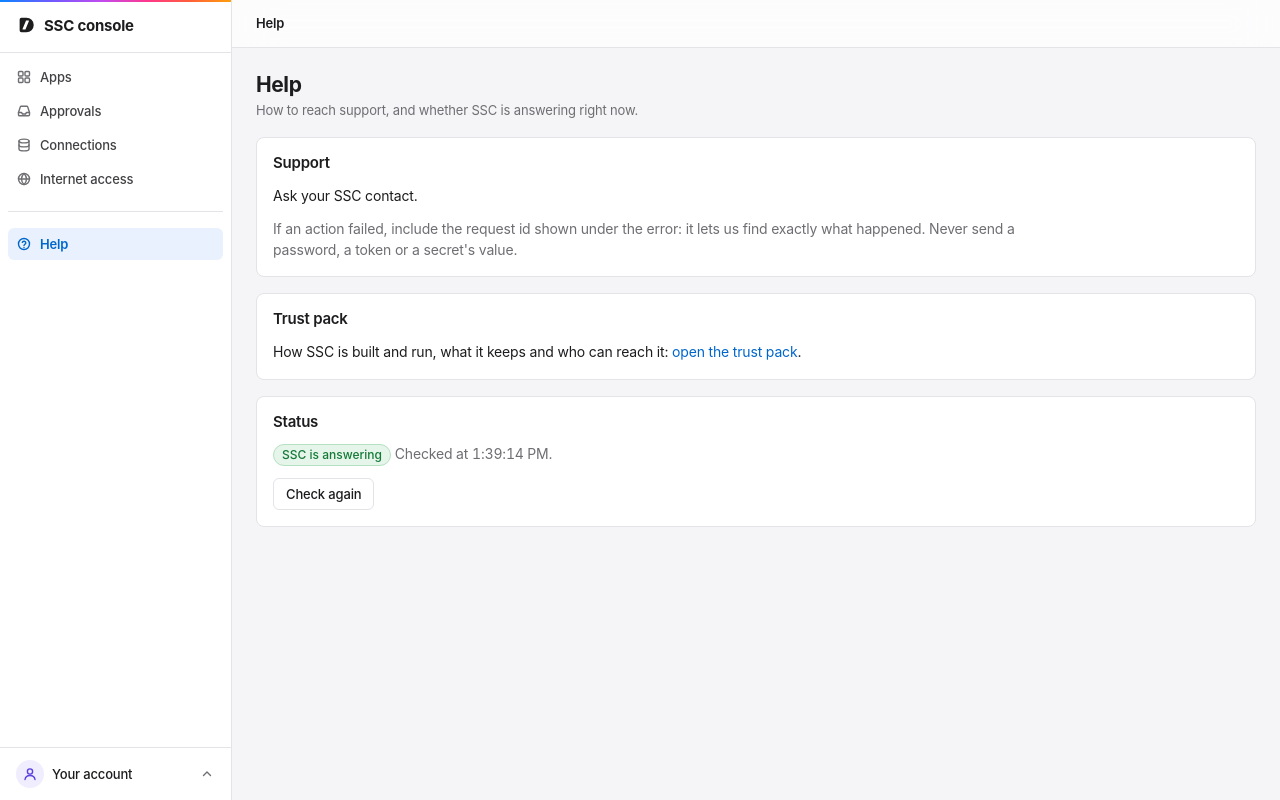
Test case: help: whether SSC is answering › checks again on request, and follows SSC down and back up
The image size is (1280, 800).
expect the heading "Help" is shown: met, box [256,72,302,97]
expect the message named "SSC status" shows "SSC is answering": met, box [282,447,382,462]
Click the button "Check again": (324, 494) [273,478,374,510]
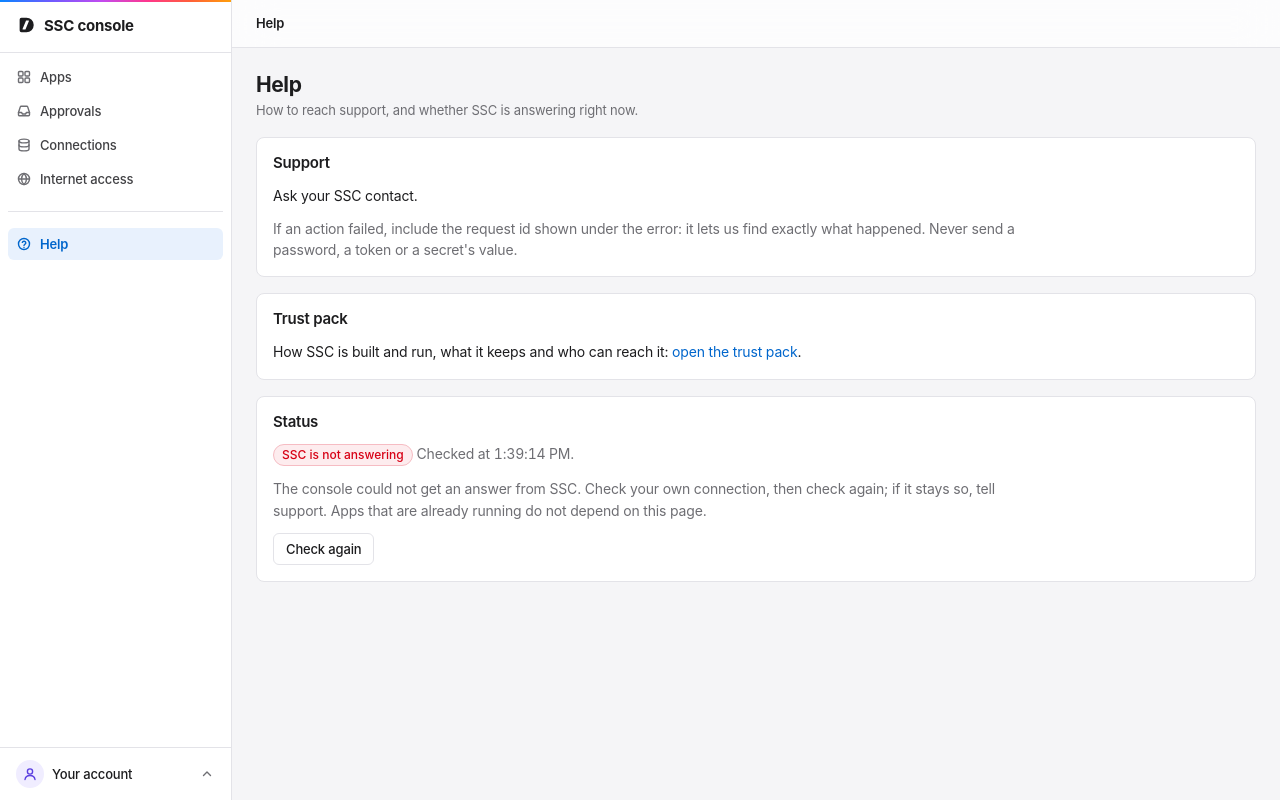
expect the message named "SSC status" shows "SSC is not answering": met, box [282,447,404,462]
Click the button "Check again": (324, 549) [273,533,374,565]
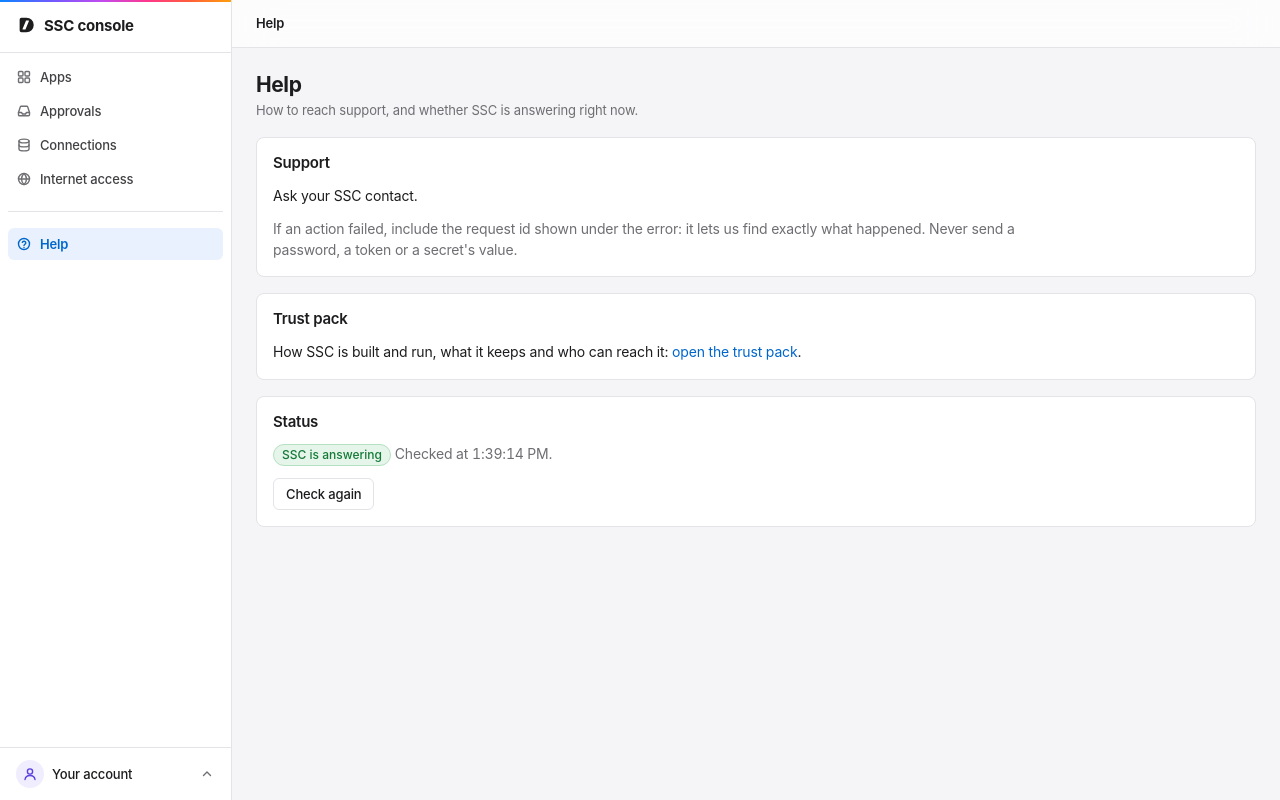
expect the message named "SSC status" shows "SSC is answering": met, box [282,447,382,462]
expect the text "could not get an answer" is gone: met
